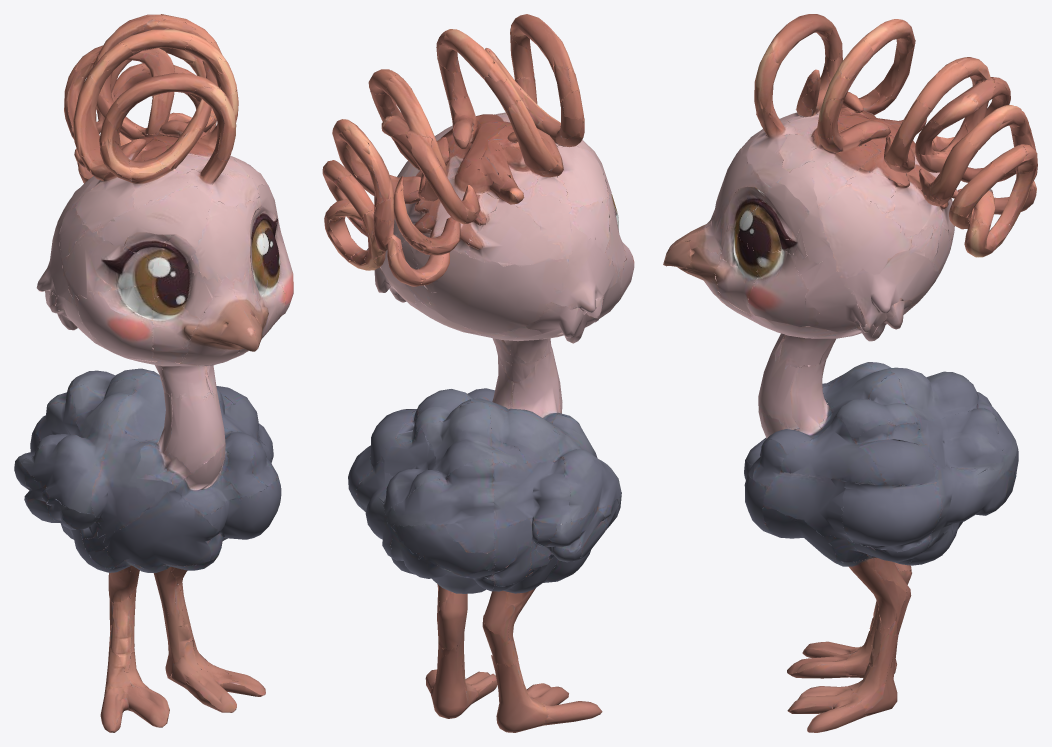
3 views of the same model, side by side, from view 1: azimuth 30°, elevation 25°; view 2: azimuth 150°, elevation 25°; view 3: azimuth 270°, elevation 25° (orthographic). The views are drawn at different scales.
Parts seen in each view (by area): view 1: Mesh_0; view 2: Mesh_0; view 3: Mesh_0.
Part boxes in pixels (left/top/right/bottom): Mesh_0: left=14, top=14, right=293, bottom=732; Mesh_0: left=322, top=14, right=634, bottom=732; Mesh_0: left=663, top=14, right=1037, bottom=732.
Size of the model in its own units: 0.703 by 1.9 by 0.9548.
Materials: 1 (1 with a texture image).
